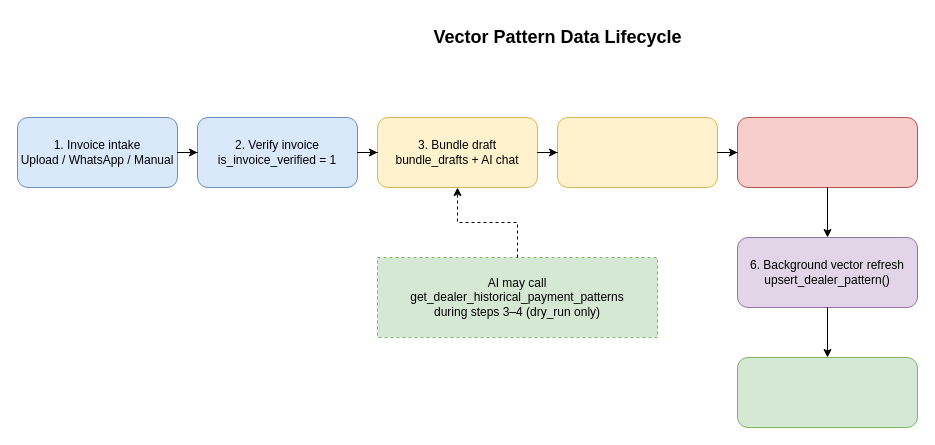
Some shapes in this 935 by 445 pixel diagram are drawn without their labels. The shapes that lost their labels are listed below. From the top down, each one's box as (x1, y1, x2, y2) in pixels, then its label:
(556, 116, 718, 188): 4. Preview guardrails check
(736, 116, 918, 188): 5. User commits cheques save_cheques → SQLite
(736, 356, 918, 428): 7. Next bundling chat AI queries patterns
